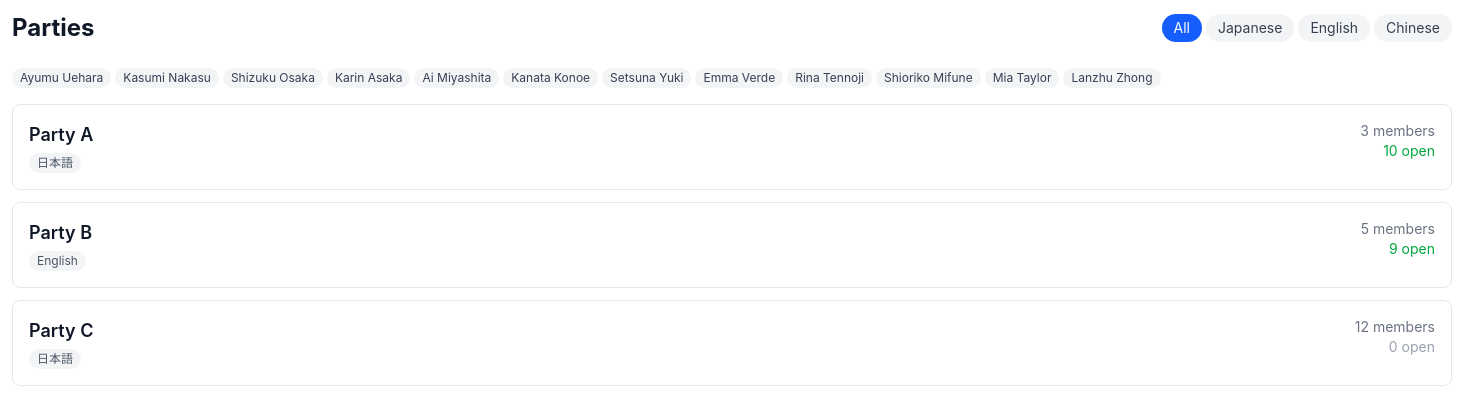
Test: PartyList — character filtering › filters to parties where selected character is open
This screenshot has width=1464, height=403.
Expected: the heading "Party A" is shown, [29,121,93,149]
Click the button "Shizuku Osaka".
click(273, 78)  # box [223,68,323,88]
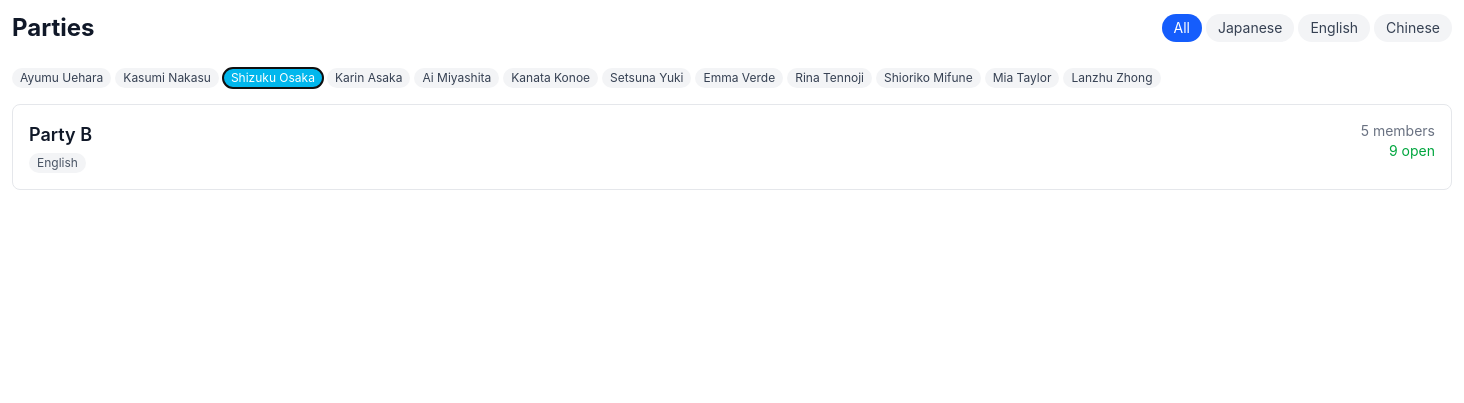
Expected: the heading "Party B" is shown, [29,121,92,149]
Result: the link "Party A" is gone
Result: the link "Party C" is gone
